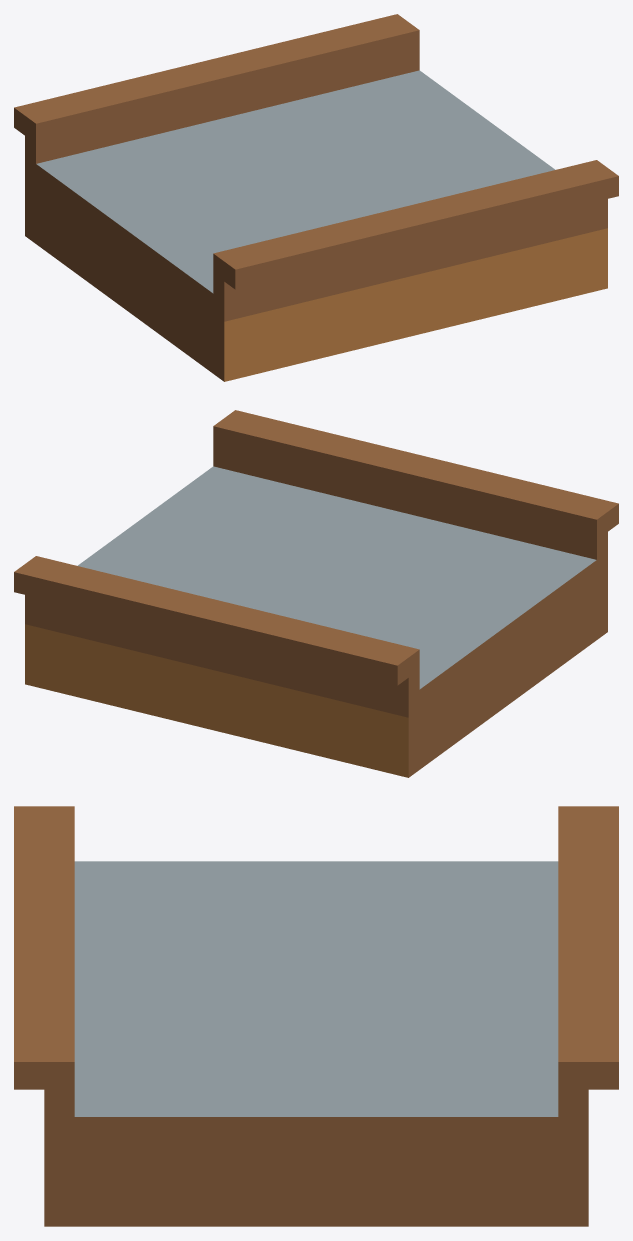
File: bridge_center_wood.glb
3 renders of one model, top to bottom at view 1: azimuth 30°, elevation 25°; view 2: azimuth 150°, elevation 25°; view 3: azimuth 270°, elevation 25°, orthographic. The views are drawn at different scales.
Parts seen in each view (by area): view 1: bridge_center_wood; view 2: bridge_center_wood; view 3: bridge_center_wood.
Boxes of the visible parts, x1,y1,x2,y2 form: bridge_center_wood: (14, 14, 618, 381); bridge_center_wood: (14, 410, 618, 777); bridge_center_wood: (14, 806, 618, 1226).
Bounding box in the file's own units: 1 × 0.3 × 1.
